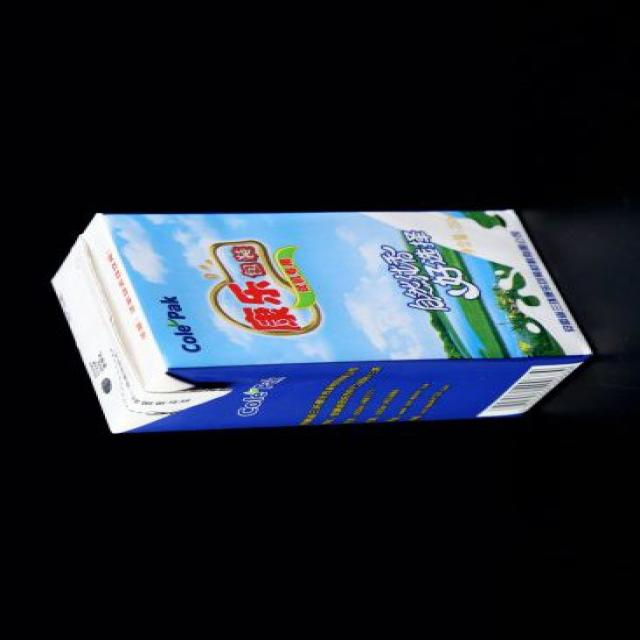non_white_jug: (51, 209, 590, 434)
